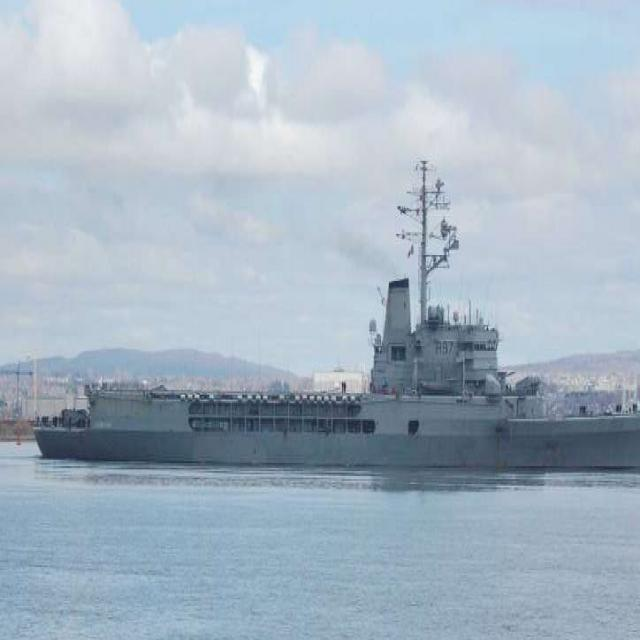Portanaves: (22, 123, 640, 482)
